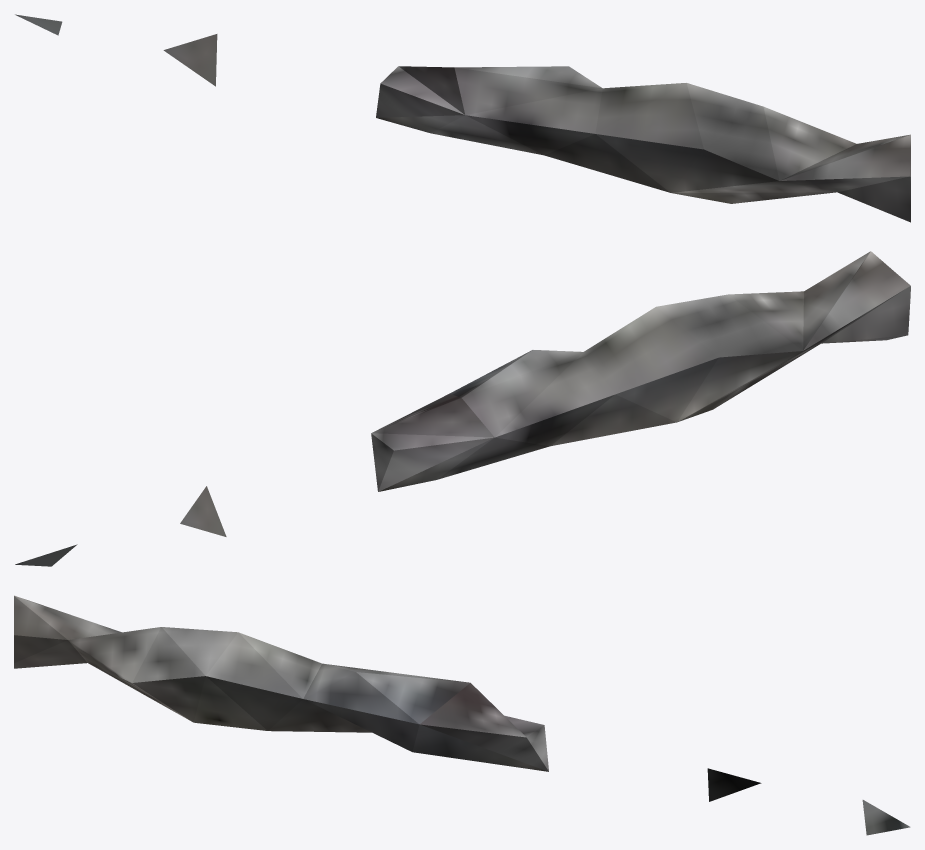
3 renders of one model, top to bottom at view 1: azimuth 90°, elevation 25°; view 2: azimuth 150°, elevation 25°; view 3: azimuth 270°, elevation 25°, orthographic. The views are drawn at different scales.
Size of the model in its own units: 0.1042 by 0.0264 by 0.2031.
Materials: 1 (1 with a texture image).
